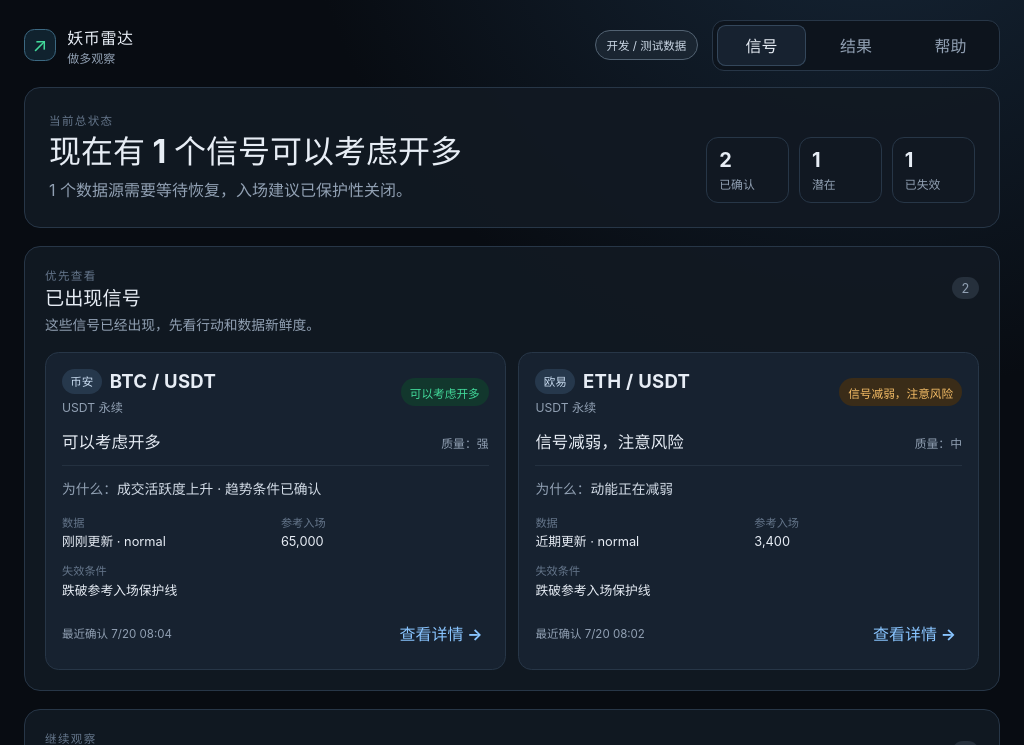
detail, history, and observation statistics › navigates from a homepage signal to an explainable detail view
This screenshot has width=1024, height=745.
Click the button "查看详情 →" in the row of "7/20 08:04".
click(441, 633)  # box [394, 613, 489, 653]
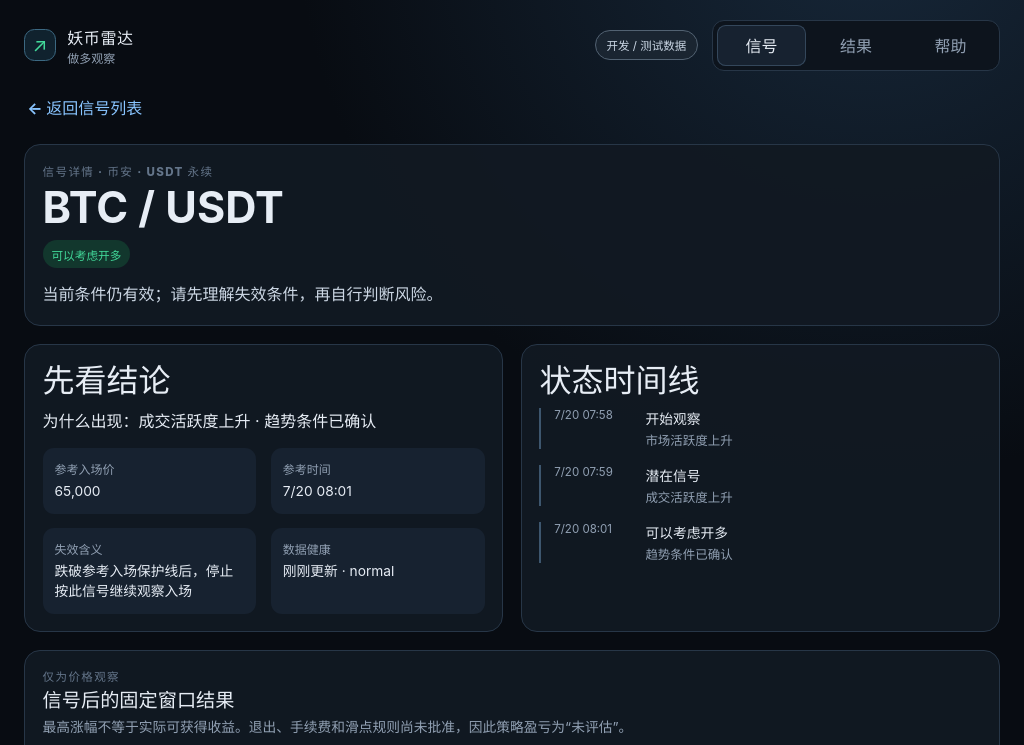
Result: the text "先看结论" is shown at [43, 361, 171, 400]
Result: the text "为什么出现：成交活跃度上升 · 趋势条件已确认" is shown at [43, 411, 376, 431]
Result: the text "跌破参考入场保护线后，停止按此信号继续观察入场" is shown at [55, 562, 244, 602]
